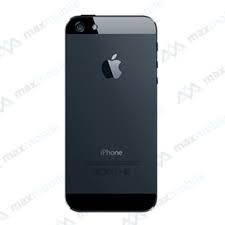iphone: (61, 12, 161, 216)
